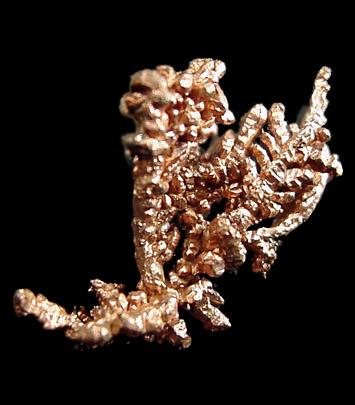copper: (13, 58, 343, 348)
